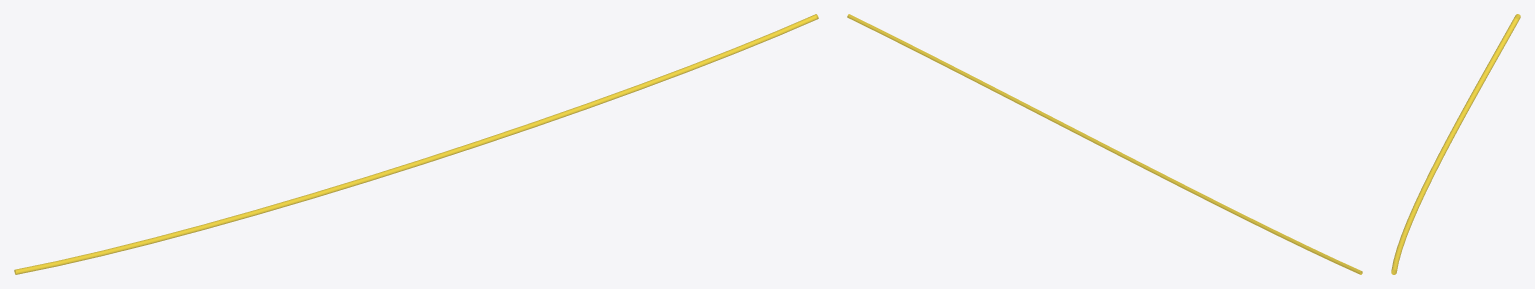
File: Event_17758602_track_108.fbx
3 renders of one model, left to right at view 1: azimuth 30°, elevation 25°; view 2: azimuth 150°, elevation 25°; view 3: azimuth 270°, elevation 25°, orthographic. The views are drawn at different scales.
Parts seen in each view (by area): view 1: Model; view 2: Model; view 3: Model.
Part boxes in pixels (x1,y1,x2,y2): Model: (14,14,818,274); Model: (847,14,1362,274); Model: (1391,14,1520,274).
Size of the model in its own units: 6.31 by 0.997 by 0.9114.
